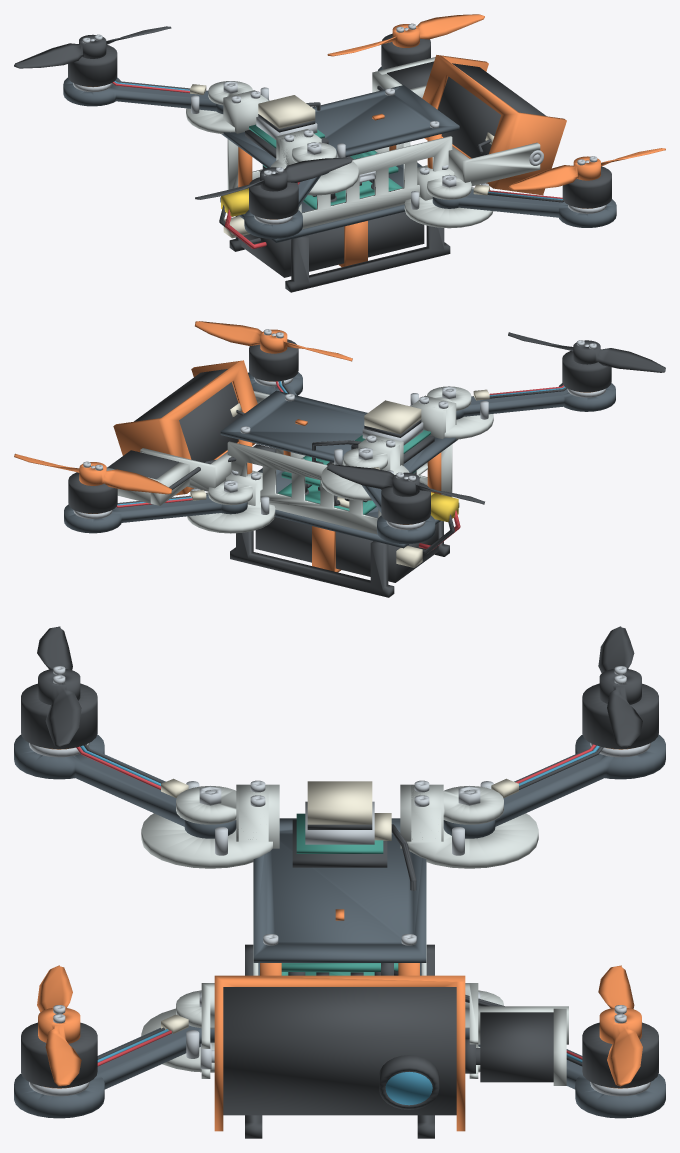
File: assembly.glb
3 renders of one model, top to bottom at view 1: azimuth 30°, elevation 25°; view 2: azimuth 150°, elevation 25°; view 3: azimuth 270°, elevation 25°, orthographic. The views are drawn at different scales.
Visible parts, largest first — view 1: upper-deck, camera-cradle, side-panel-left, battery-3s-650mah, camera-case, landing-skid-left, fl-arm, rr-arm, camera-bracket-left, fl-clevis, rl-clevis, fr-propeller (+21 smaller); view 2: upper-deck, side-panel-right, camera-cradle, battery-3s-650mah, camera-case, landing-skid-right, fr-arm, fr-clevis, rl-arm, rr-clevis, rl-propeller, fr-propeller (+23 smaller); view 3: camera-case, upper-deck, rl-clevis, rr-clevis, camera-cradle, tilt-servo-case, rl-arm, rr-arm, fl-arm, rl-propeller, fl-propeller, fr-propeller (+20 smaller).
Boxes of the visible parts, bbox=[...] form: upper-deck: bbox=[221, 85, 459, 167]; camera-cradle: bbox=[422, 55, 566, 195]; side-panel-left: bbox=[298, 136, 452, 229]; battery-3s-650mah: bbox=[241, 211, 424, 277]; camera-case: bbox=[438, 63, 546, 158]; landing-skid-left: bbox=[285, 225, 450, 292]; fl-arm: bbox=[432, 189, 616, 227]; rr-arm: bbox=[63, 77, 223, 113]; camera-bracket-left: bbox=[448, 142, 540, 186]; fl-clevis: bbox=[404, 168, 493, 228]; rl-clevis: bbox=[270, 135, 358, 195]; fr-propeller: bbox=[327, 14, 484, 56]; upper-deck: bbox=[220, 390, 458, 473]; side-panel-right: bbox=[227, 441, 381, 534]; camera-cradle: bbox=[113, 360, 257, 495]; battery-3s-650mah: bbox=[255, 517, 438, 582]; camera-case: bbox=[134, 369, 241, 462]; landing-skid-right: bbox=[230, 531, 394, 597]; fr-arm: bbox=[64, 494, 247, 533]; fr-clevis: bbox=[187, 473, 275, 533]; rl-arm: bbox=[456, 383, 615, 419]; rr-clevis: bbox=[321, 438, 409, 500]; rl-propeller: bbox=[508, 332, 665, 372]; fr-propeller: bbox=[14, 453, 171, 494]; camera-case: bbox=[223, 987, 456, 1115]; upper-deck: bbox=[253, 818, 426, 962]; rl-clevis: bbox=[141, 784, 272, 868]; rr-clevis: bbox=[407, 784, 538, 868]; camera-cradle: bbox=[214, 975, 465, 1131]; tilt-servo-case: bbox=[480, 1012, 553, 1082]; rl-arm: bbox=[14, 734, 236, 838]; rr-arm: bbox=[443, 734, 665, 838]; fl-arm: bbox=[14, 1025, 214, 1118]; rl-propeller: bbox=[37, 626, 81, 747]; fl-propeller: bbox=[37, 965, 81, 1086]; fr-propeller: bbox=[598, 965, 642, 1086].
Bounding box in the file's own units: 0.1949 × 0.0733 × 0.151.
